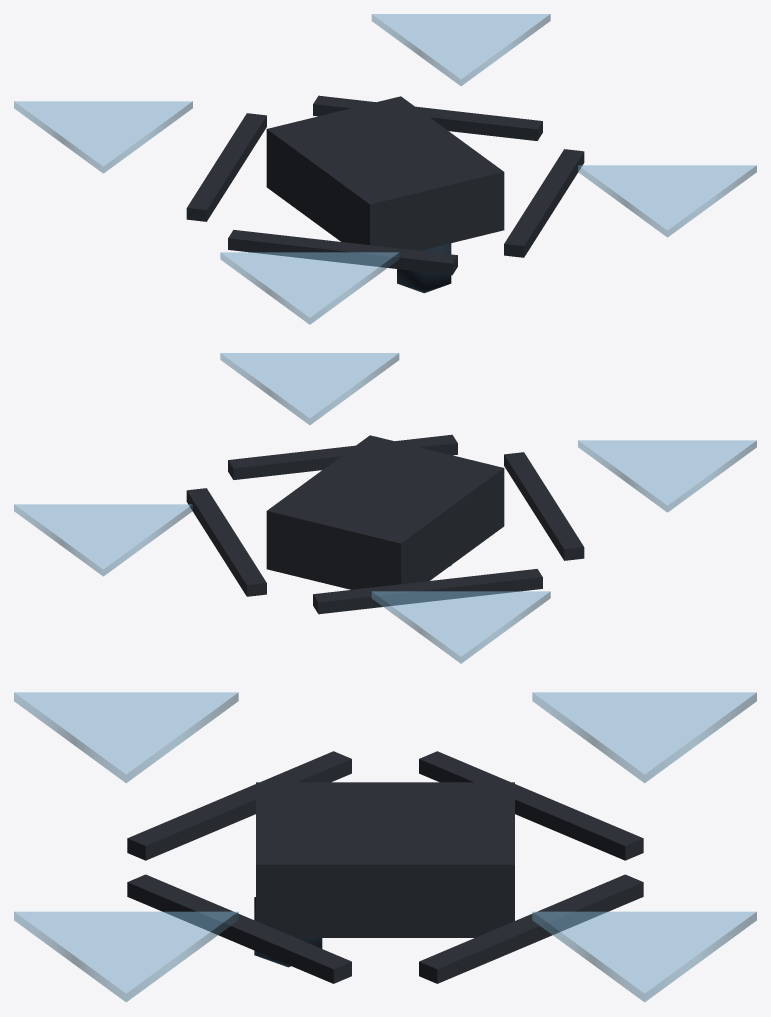
File: veh_air_drone_recon_a08_lod2.glb
3 views of the same model, one above another, from view 1: azimuth 30°, elevation 25°; view 2: azimuth 150°, elevation 25°; view 3: azimuth 270°, elevation 25° (orthographic). The views are drawn at different scales.
Visible parts, largest first — view 1: body, rotor_1, rotor_3, rotor_0, rotor_2; view 2: body, rotor_3, rotor_1, rotor_2, rotor_0; view 3: body, rotor_0, rotor_2, rotor_1, rotor_3.
Part boxes in pixels (box(x1,y1,x2,y2)): body: box(186, 95, 584, 293); rotor_1: box(220, 252, 399, 324); rotor_3: box(14, 101, 192, 173); rotor_0: box(578, 165, 756, 237); rotor_2: box(371, 14, 550, 85); body: box(186, 434, 584, 614); rotor_3: box(371, 591, 550, 663); rotor_1: box(578, 440, 756, 512); rotor_2: box(14, 504, 192, 576); rotor_0: box(220, 353, 399, 424); body: box(127, 751, 643, 983); rotor_0: box(14, 911, 238, 1001); rotor_2: box(532, 911, 756, 1001); rotor_1: box(14, 692, 238, 782); rotor_3: box(532, 692, 756, 782).
Size of the model in its own units: 2.2 by 0.49 by 2.29.
